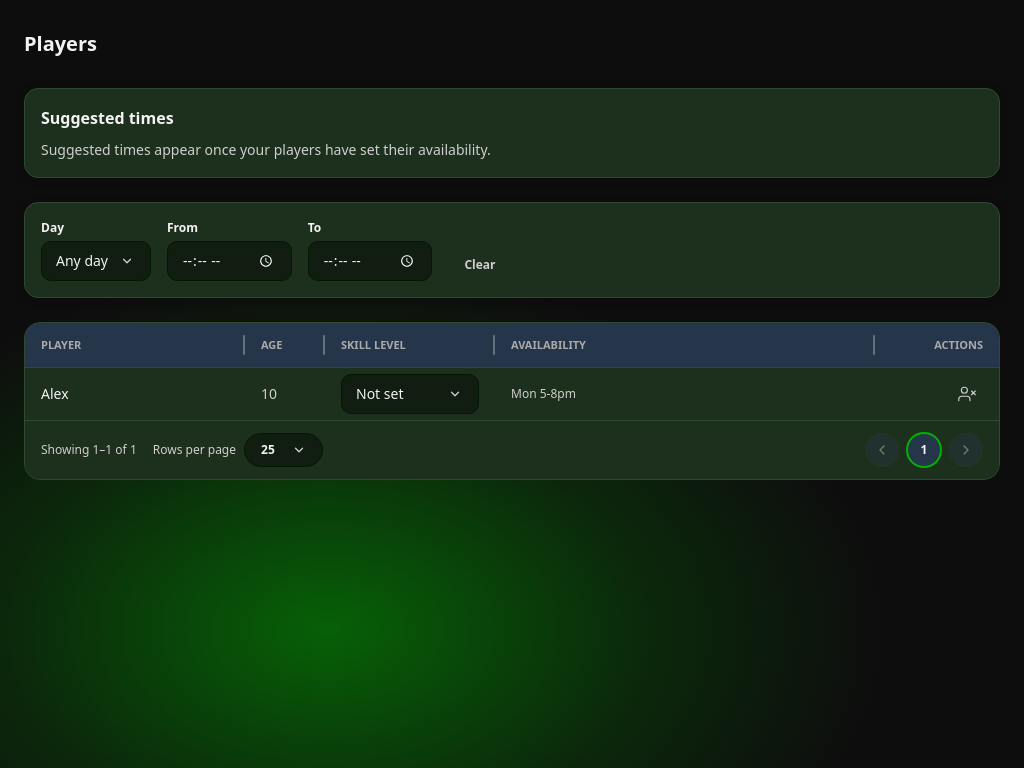
Test: PlayersPage (trainer) › shows "Players available at this time: X out of Y" only while a day/time filter is active (US-01.09)
The width and height of the screenshot is (1024, 768).
Expected: the row "Alex 10 Mon 5-8pm" is shown, 25,368 -> 999,420
Expected: the text "players available at this time" is not shown
Select "Mon" in the dropdown labelled "Day": (96, 261) 41,241 -> 151,281
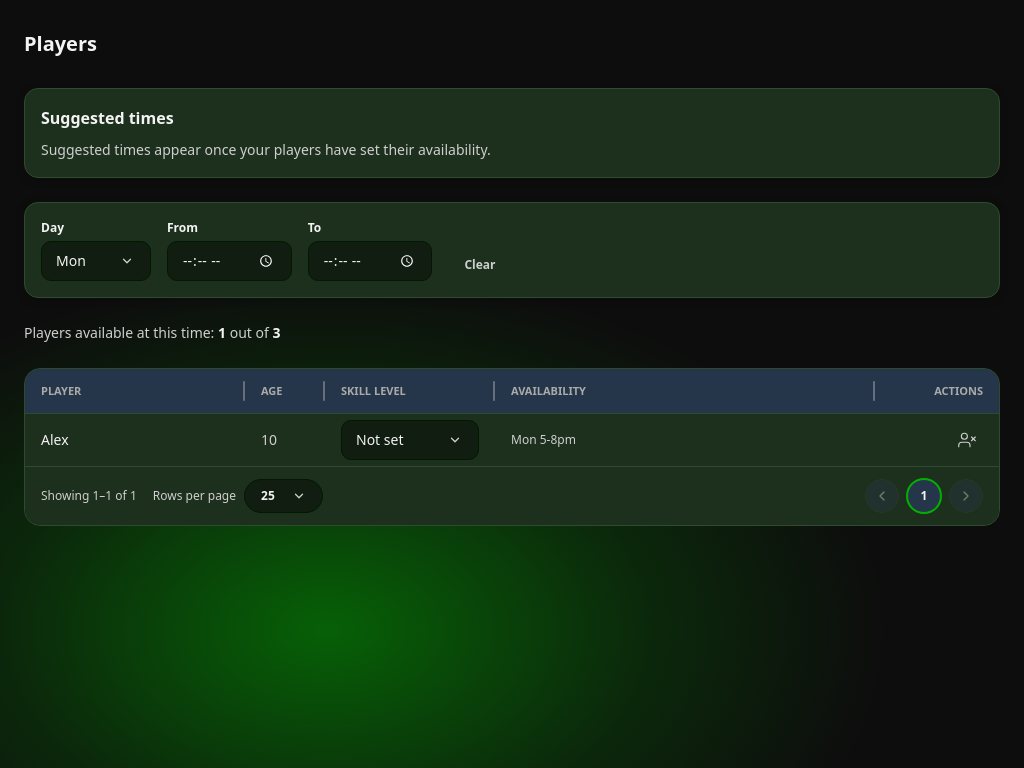
Now the text "Players available at this time: 1 out of 3" is shown, box 24,323 -> 280,342
